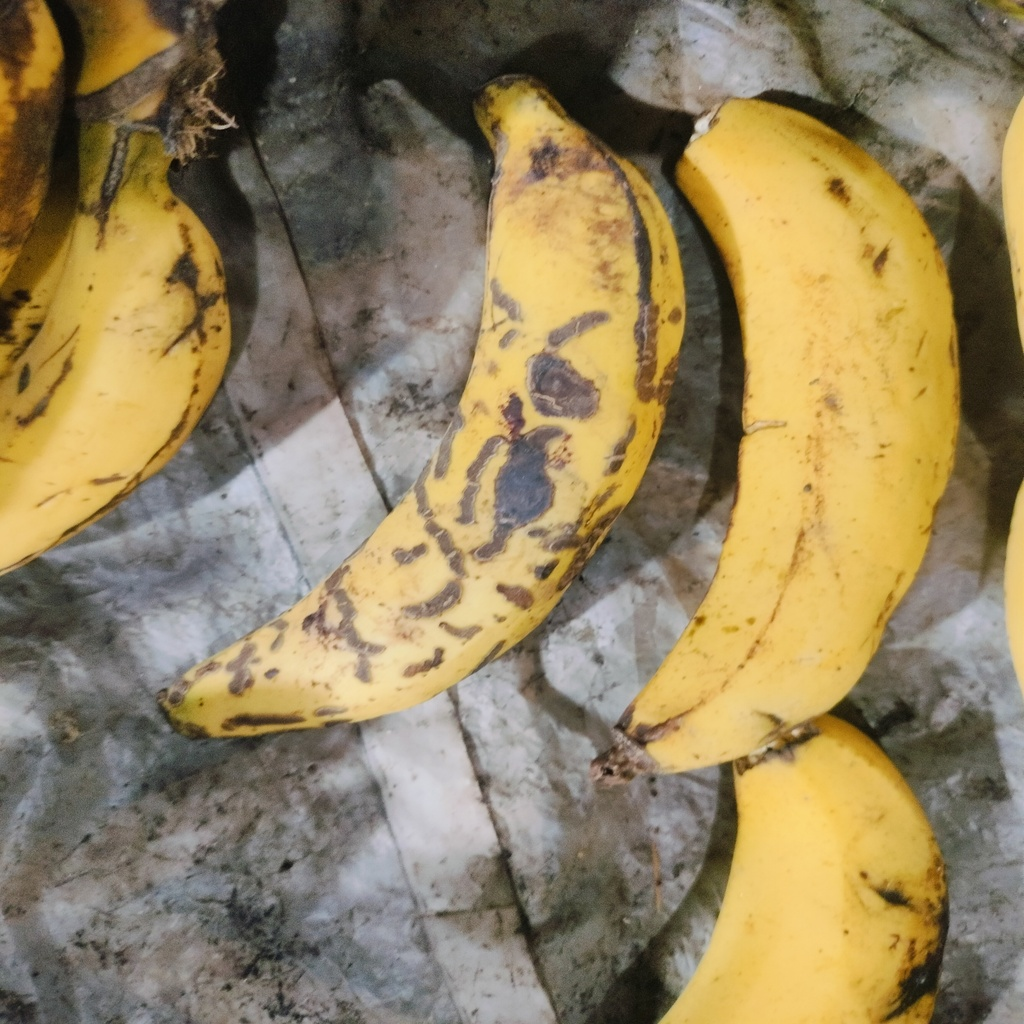healthy: (625, 115, 957, 780)
unhealthy: (166, 68, 688, 732)
